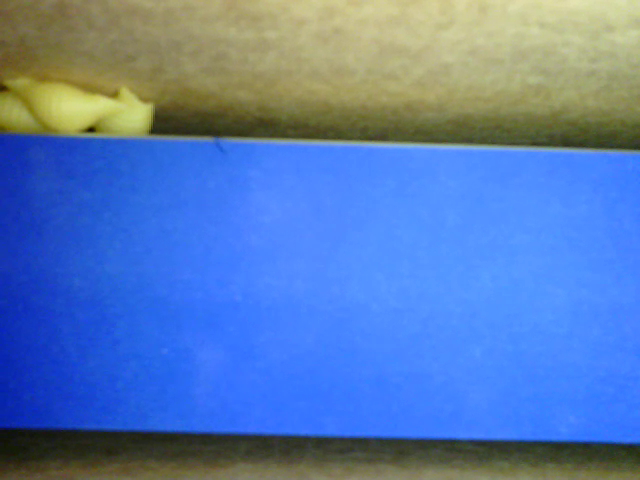shell: (1, 73, 128, 131), (93, 85, 151, 135), (1, 93, 51, 134)
